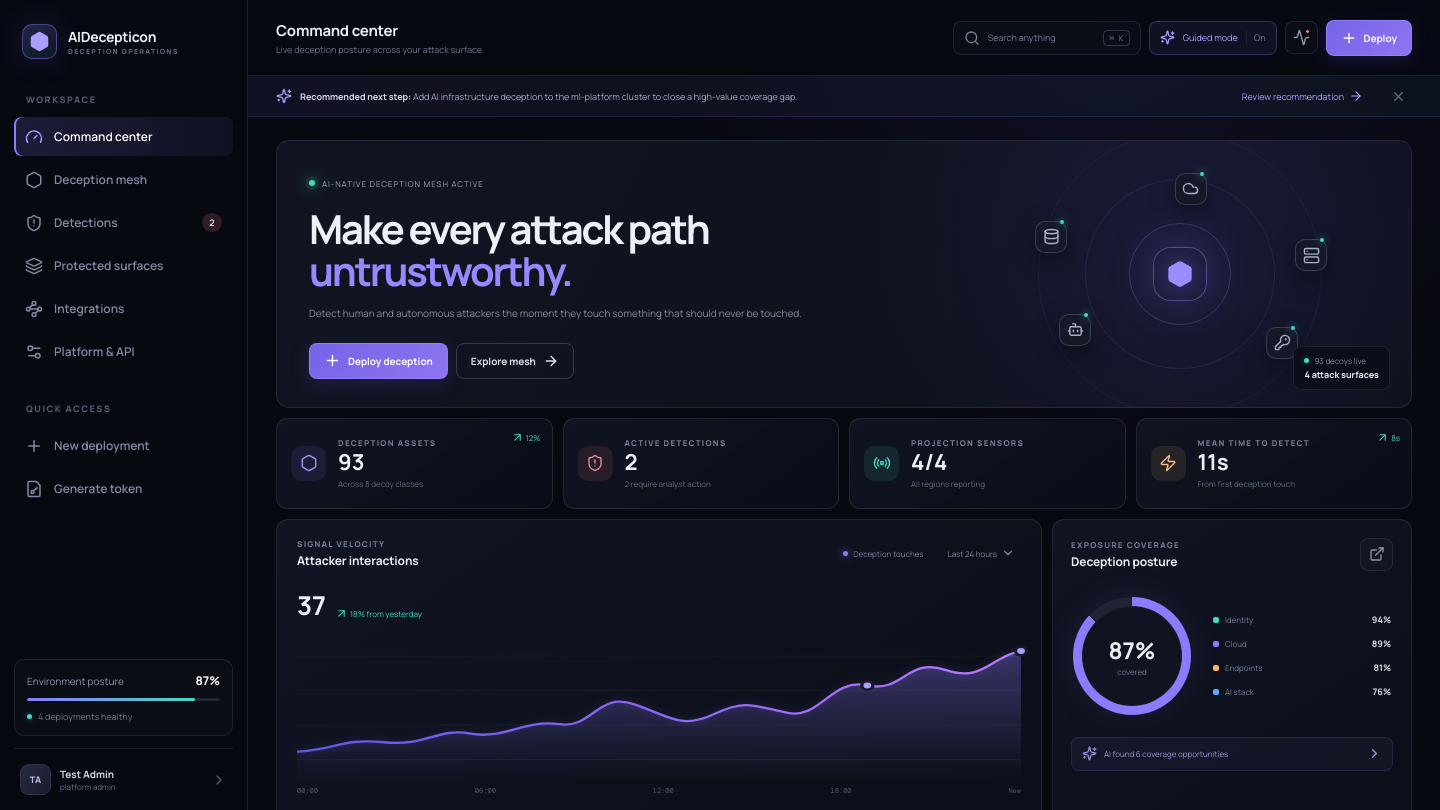
Scenario: AIDecepticon control plane › opens the GUI deployment workflow
Expected: the heading "Make every attack path" is shown, [309,201,709,256]
Click the button "Deploy deception" at [378, 360], box [309,342,448,378]
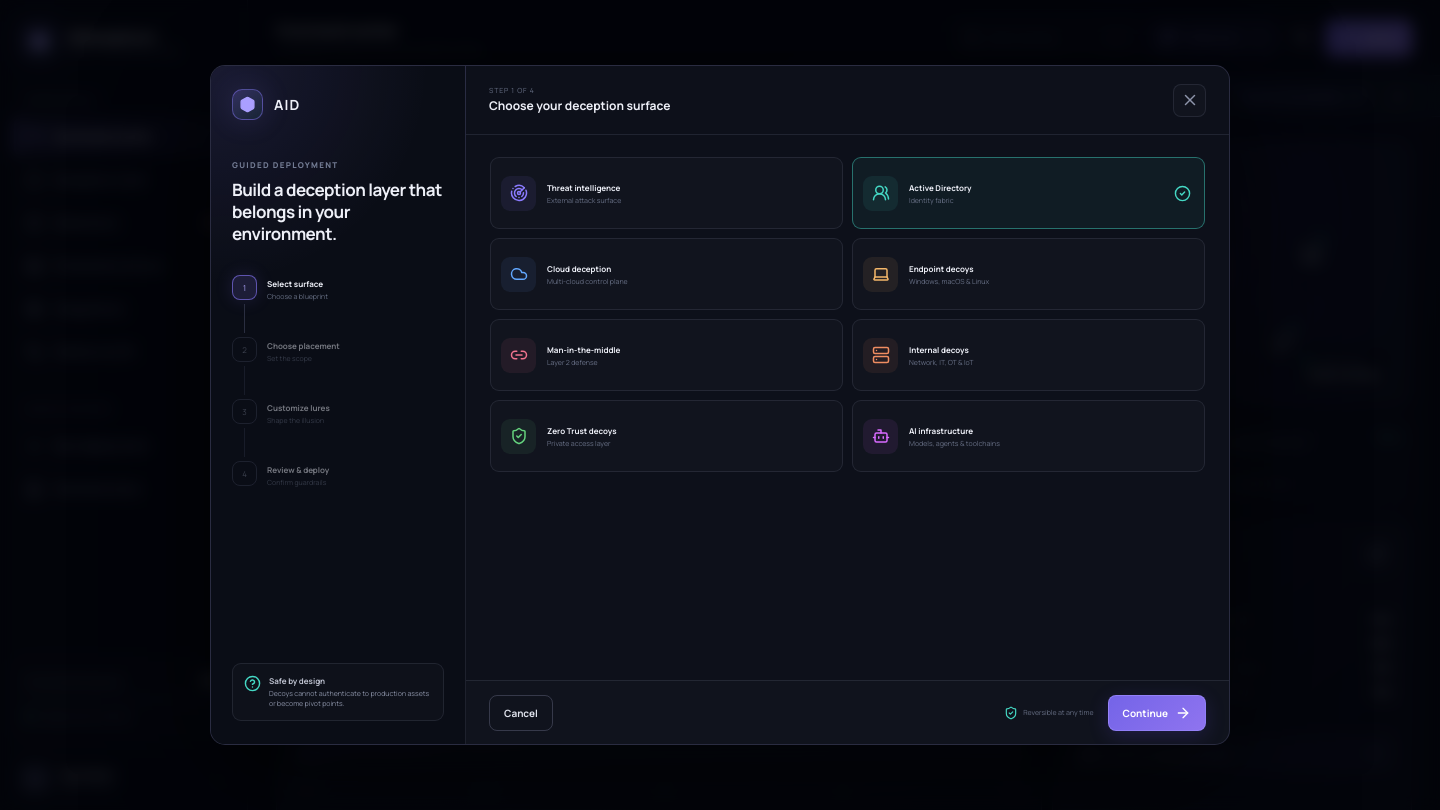
Expected: the dialog named "guided deception deployment" is shown, [210,65,1230,745]
Expected: the text "Step 1 of 4" is shown, [489,86,535,95]
